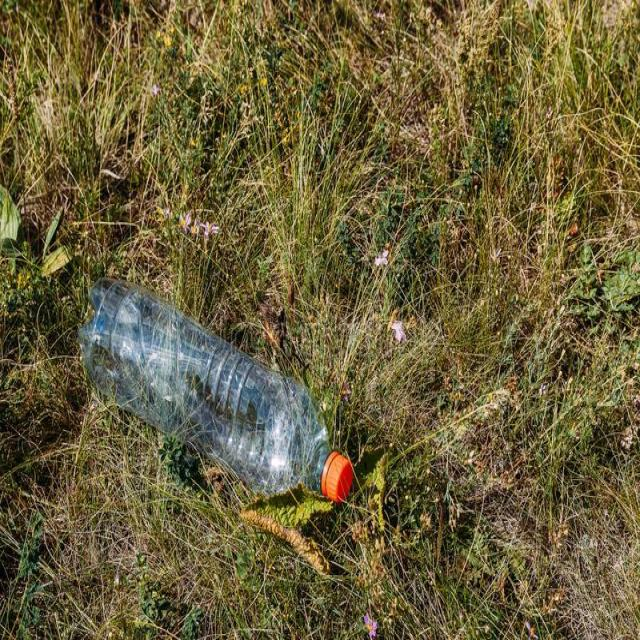bottle: (68, 247, 362, 523)
